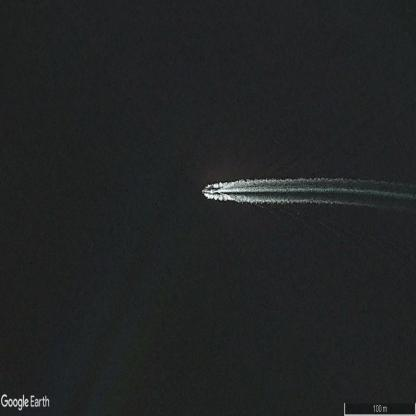ship: (201, 189, 215, 194)
